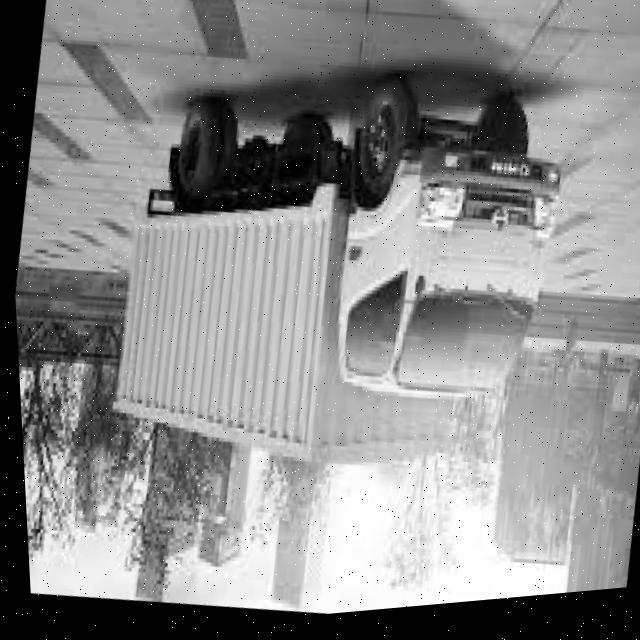truck: (287, 55, 625, 475)
